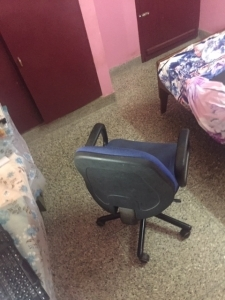chair: (73, 123, 193, 262)
